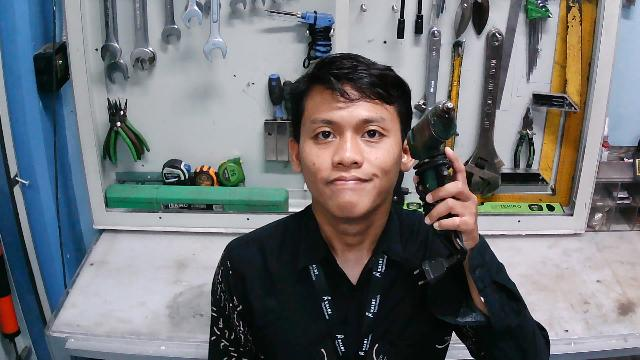gun_lem: (405, 97, 473, 288)
